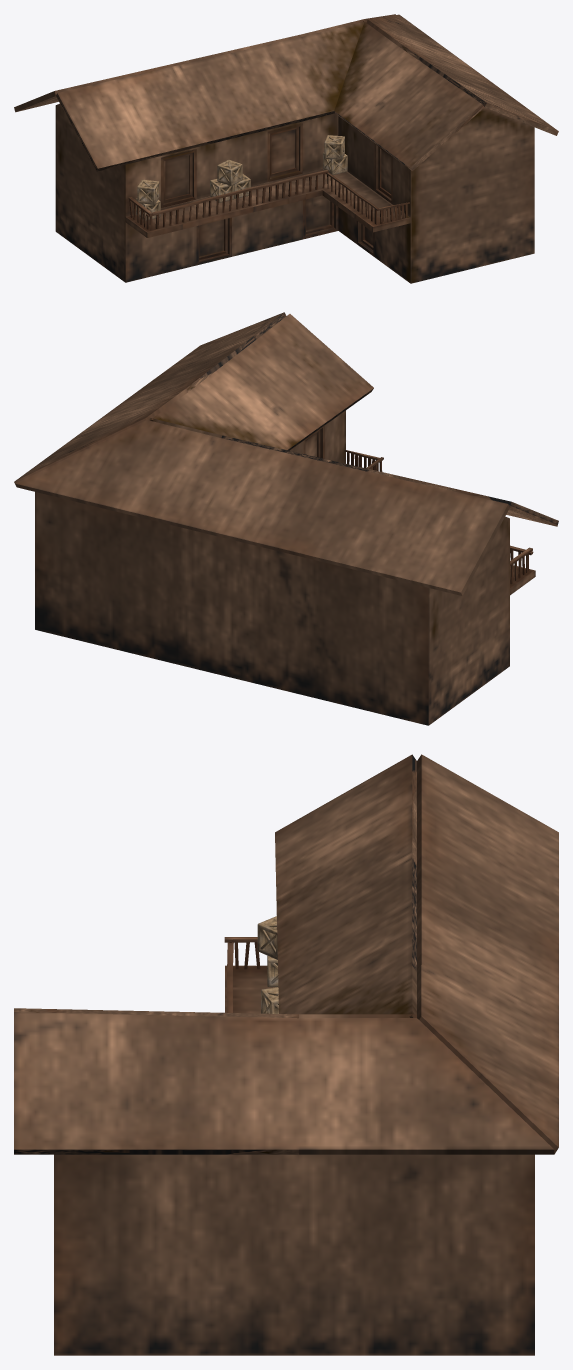
Rendered from nha2.fbx.
3 views of the same model, one above another, from view 1: azimuth 30°, elevation 25°; view 2: azimuth 150°, elevation 25°; view 3: azimuth 270°, elevation 25° (orthographic). The views are drawn at different scales.
Parts seen in each view (by area): view 1: Cube.005; view 2: Cube.005; view 3: Cube.005.
Part boxes in pixels (x1,y1,x2,y2): Cube.005: (14,14,558,283); Cube.005: (14,312,558,725); Cube.005: (14,754,558,1355).
Size of the model in its own units: 1835 by 794 by 1332.
